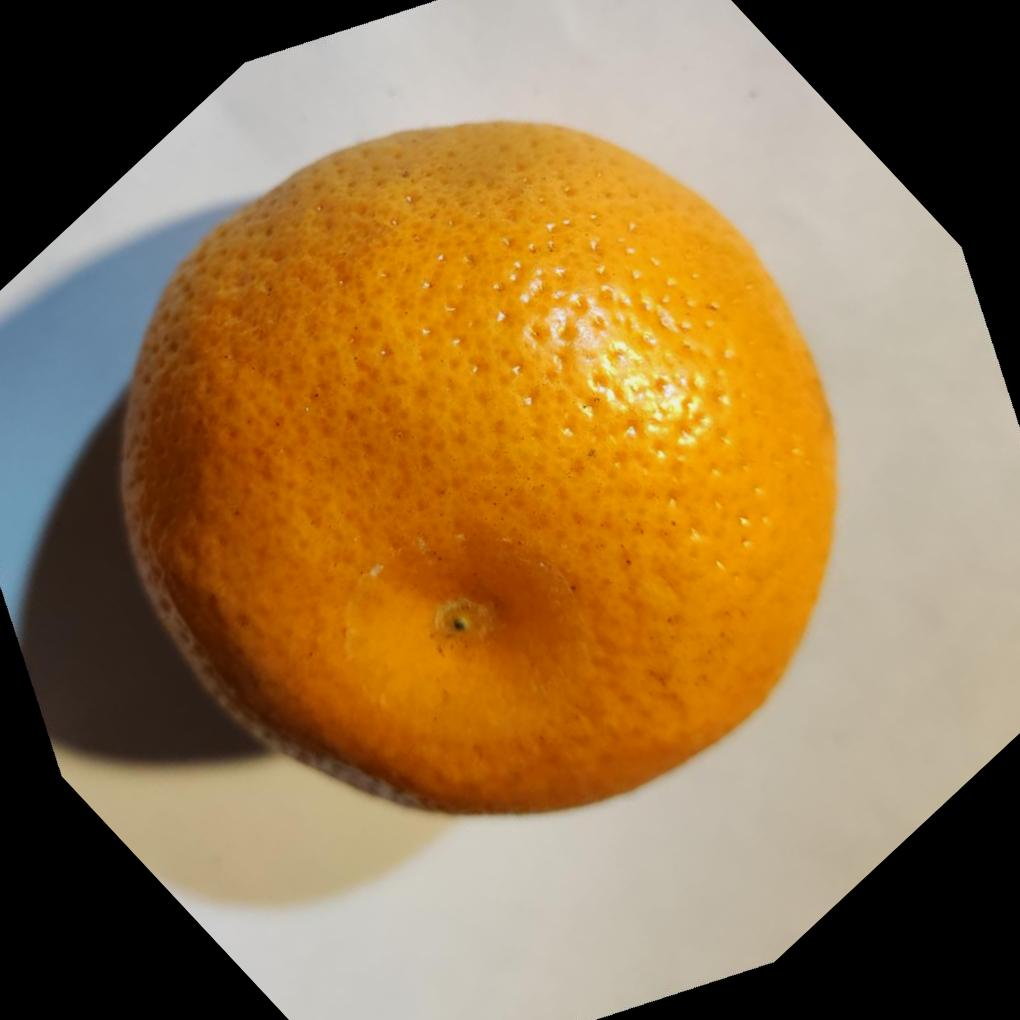FreshGuava: (112, 111, 838, 816)
